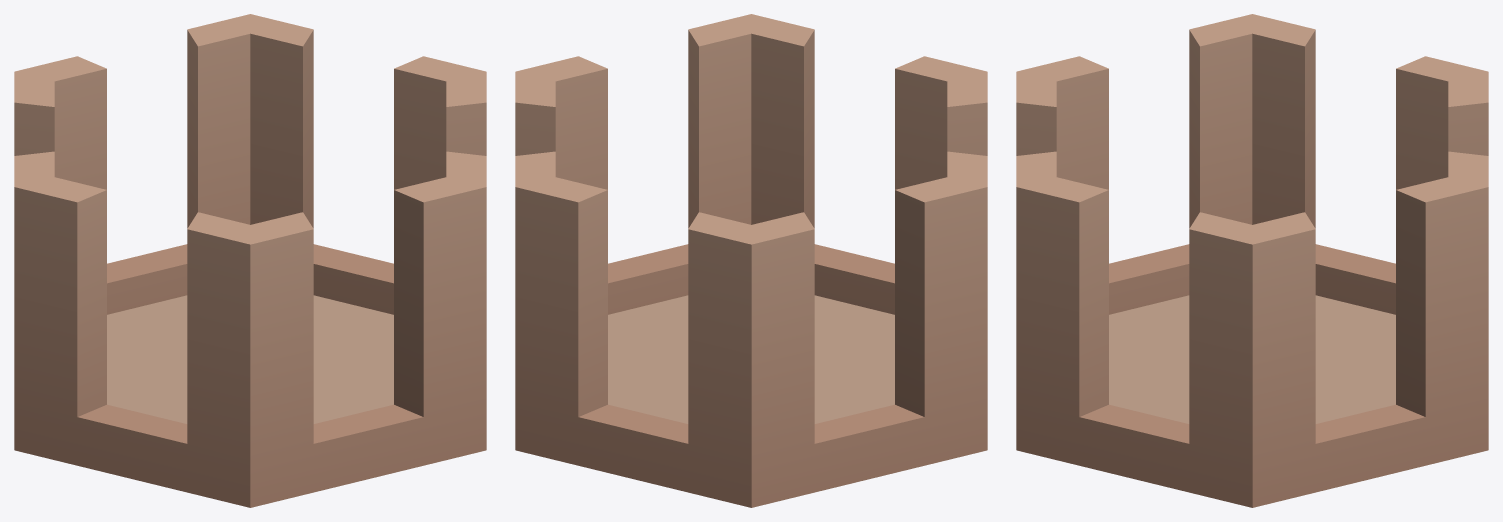
File: tower-hexagon-top-wood.glb
The picture shows the model from 3 angles, left to right: view 1: azimuth 30°, elevation 25°; view 2: azimuth 150°, elevation 25°; view 3: azimuth 270°, elevation 25°; orthographic projection.
Parts seen in each view (by area): view 1: tower-hexagon-top-wood; view 2: tower-hexagon-top-wood; view 3: tower-hexagon-top-wood.
Boxes of the visible parts, <box> form: tower-hexagon-top-wood: <box>14,14,486,507</box>; tower-hexagon-top-wood: <box>515,14,987,507</box>; tower-hexagon-top-wood: <box>1016,14,1488,507</box>.
Bounding box in the file's own units: 0.864 × 0.46 × 0.7482.
